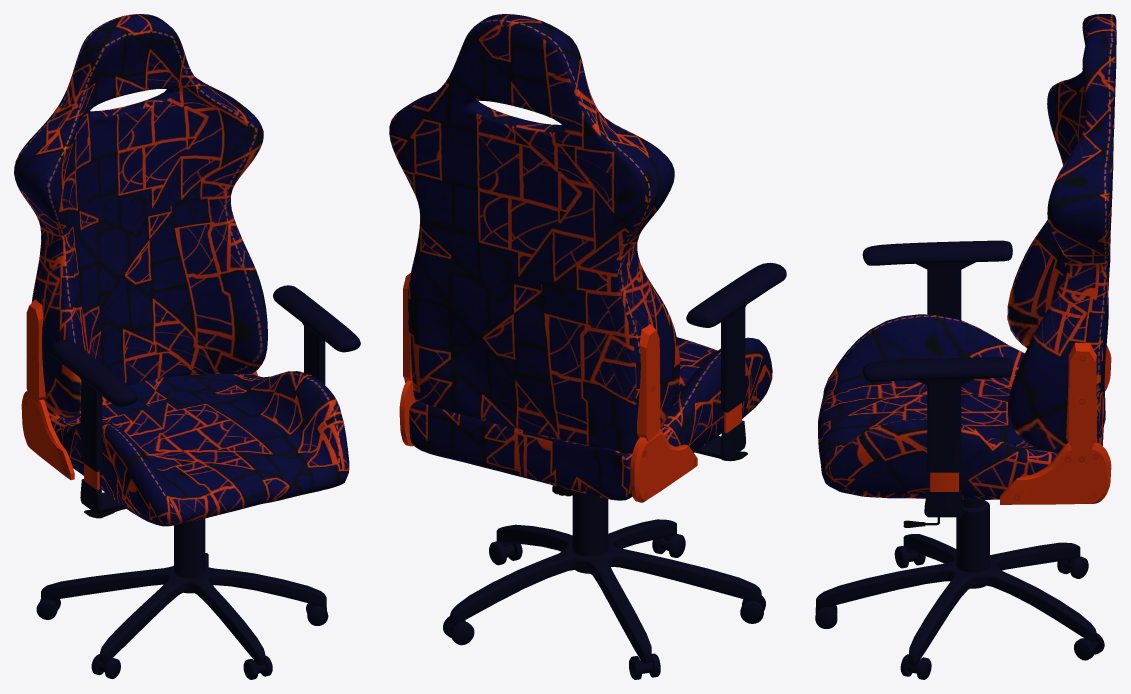
File: pc_chair.glb
3 views of the same model, side by side, from view 1: azimuth 30°, elevation 25°; view 2: azimuth 150°, elevation 25°; view 3: azimuth 270°, elevation 25° (orthographic). The views are drawn at different scales.
Parts seen in each view (by area): view 1: Plane, Plane.001, Cylinder.001, Plane.008, Cube, Plane.002, Cylinder.004, Cylinder, Plane.006; view 2: Plane, Plane.001, Cylinder.001, Plane.002, Cube, Plane.006, Cylinder.004, Plane.008, Cylinder; view 3: Plane, Plane.001, Cylinder.001, Cube, Plane.008, Plane.002, Plane.006, Cylinder.004, Cylinder.
Part boxes in pixels (x1,y1,x2,y2): Plane: (14,14,267,418); Plane.001: (48,371,349,526); Cylinder.001: (41,565,326,665); Plane.008: (50,285,360,406); Cube: (80,323,325,514); Plane.002: (21,371,257,479); Cylinder.004: (36,553,328,679); Cylinder: (174,518,205,593); Plane.006: (26,299,45,401); Plane: (389,14,680,453); Plane.001: (409,337,772,500); Cylinder.001: (450,519,761,663); Plane.002: (399,380,697,502); Cube: (694,305,746,460); Plane.006: (403,273,660,441); Cylinder.004: (443,534,765,679); Plane.008: (686,262,786,327); Cylinder: (572,492,608,573); Plane: (1007,14,1116,452); Plane.001: (818,314,1102,499); Cylinder.001: (816,534,1096,664); Cube: (916,262,975,517); Plane.008: (862,240,1012,382); Plane.002: (1000,345,1111,504); Plane.006: (1066,342,1096,464); Cylinder.004: (815,546,1104,679); Cylinder: (956,499,989,588).
Bounding box in the file's own units: 176 × 380 × 172.
Materials: 15 (6 with a texture image).
